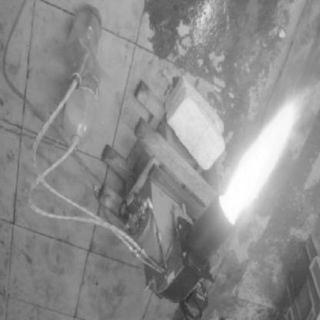Fire: (218, 99, 306, 242)
